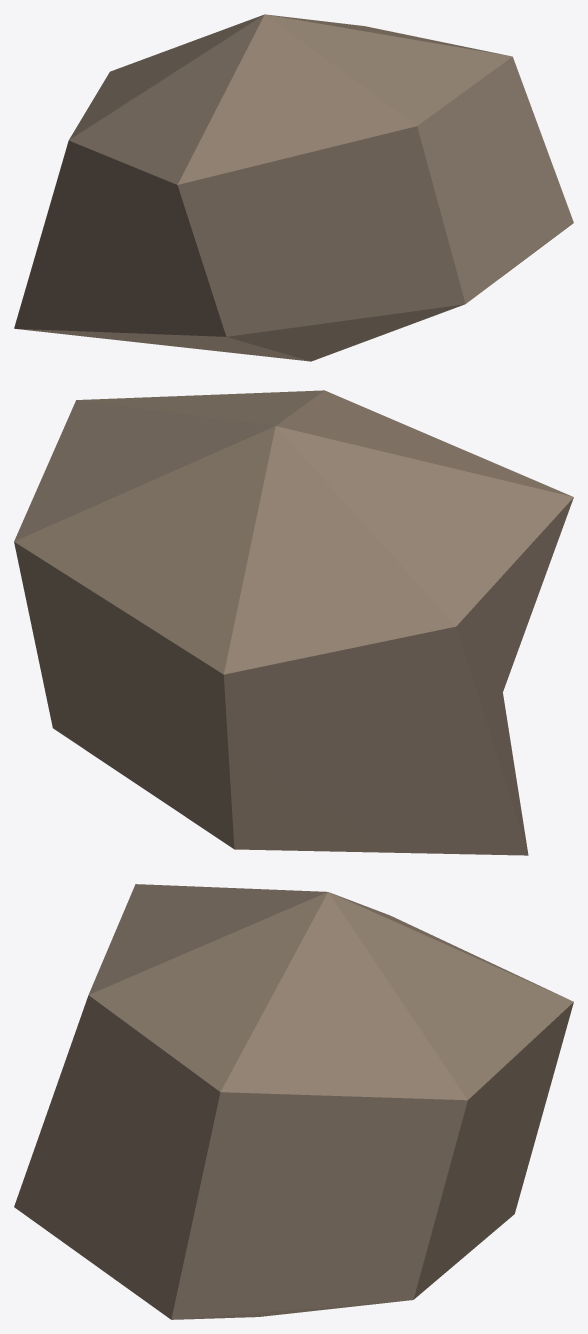
The model's file is roca_afilada.glb.
The picture shows the model from 3 angles, top to bottom: view 1: azimuth 30°, elevation 25°; view 2: azimuth 150°, elevation 25°; view 3: azimuth 270°, elevation 25°; orthographic projection. The views are drawn at different scales.
Parts seen in each view (by area): view 1: Rock_15; view 2: Rock_15; view 3: Rock_15.
Boxes of the visible parts, <box> form: Rock_15: <box>14,14,573,361</box>; Rock_15: <box>14,390,573,855</box>; Rock_15: <box>14,884,573,1319</box>.
Bounding box in the file's own units: 2 × 1.33 × 1.64.
